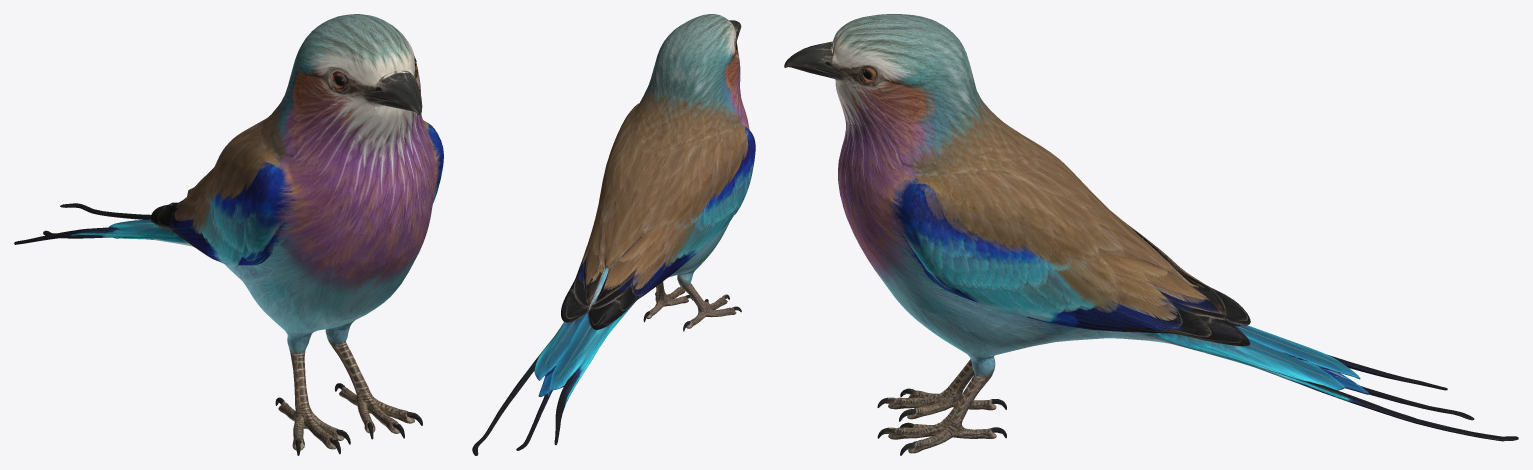
Rendered from lilac-breasted-roller.glb.
The picture shows the model from 3 angles, left to right: view 1: azimuth 30°, elevation 25°; view 2: azimuth 150°, elevation 25°; view 3: azimuth 270°, elevation 25°; orthographic projection. The views are drawn at different scales.
Size of the model in its own units: 0.539 by 1.17 by 1.9.
1 material, 1 textured.
